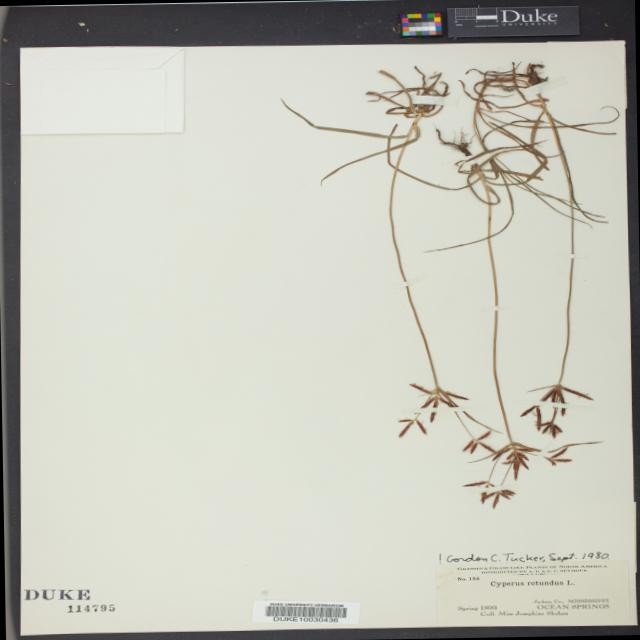cyperus: (368, 366, 620, 526)
